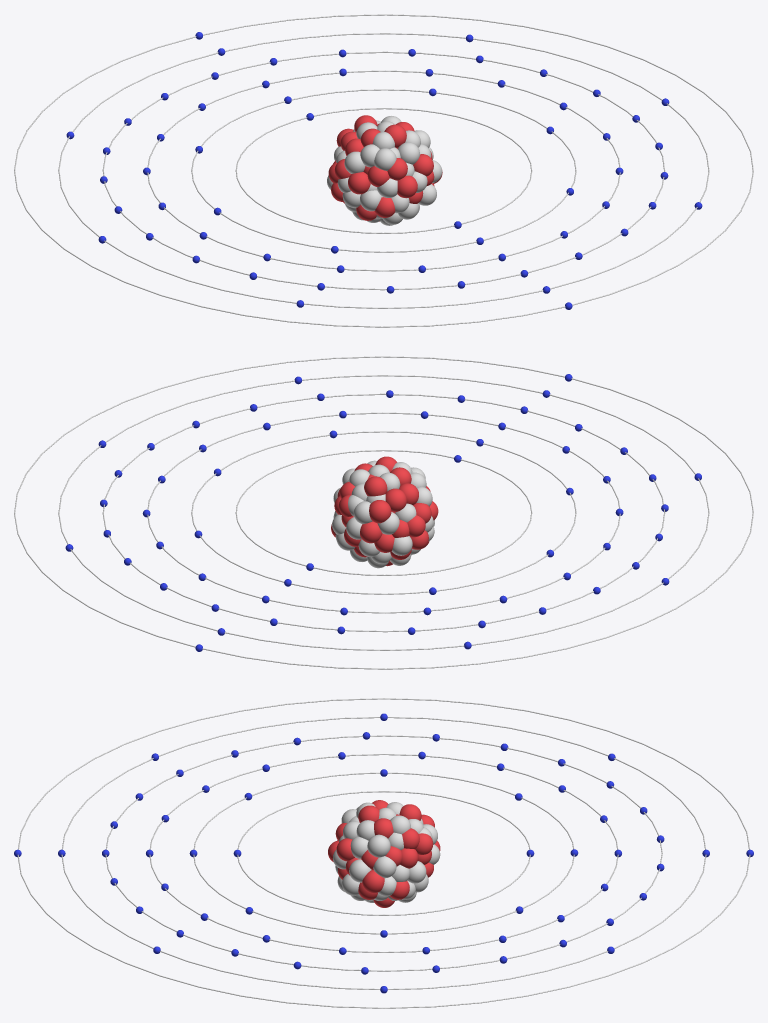
File: Europium.glb
3 views of the same model, one above another, from view 1: azimuth 30°, elevation 25°; view 2: azimuth 150°, elevation 25°; view 3: azimuth 270°, elevation 25° (orthographic).
Visible parts, largest first — view 1: P-Schale, O-Schale, N-Schale, M-Schale, L-Schale, K-Schale; view 2: P-Schale, O-Schale, N-Schale, M-Schale, L-Schale, K-Schale; view 3: P-Schale, O-Schale, N-Schale, M-Schale, L-Schale, K-Schale.
Boxes of the visible parts, x1,y1,x2,y2 form: P-Schale: (14, 14, 753, 327); O-Schale: (58, 33, 709, 308); N-Schale: (102, 51, 665, 290); M-Schale: (147, 70, 620, 271); L-Schale: (191, 89, 576, 252); K-Schale: (235, 108, 532, 233); P-Schale: (14, 356, 753, 669); O-Schale: (58, 375, 709, 650); N-Schale: (102, 393, 665, 632); M-Schale: (147, 412, 620, 613); L-Schale: (191, 431, 576, 594); K-Schale: (235, 450, 532, 575); P-Schale: (17, 698, 750, 1008); O-Schale: (61, 717, 706, 989); N-Schale: (105, 735, 662, 971); M-Schale: (149, 754, 618, 952); L-Schale: (193, 772, 574, 934); K-Schale: (237, 791, 530, 915).
Bounding box in the file's own units: 25.04 × 3.7 × 25.26.
